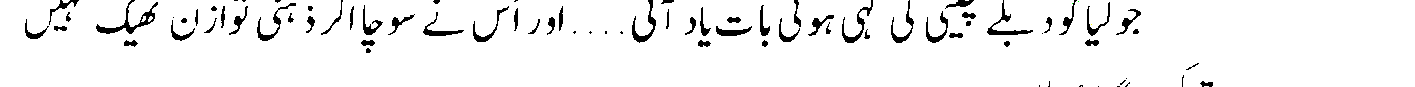bay_shosha: (757, 23, 770, 48)
